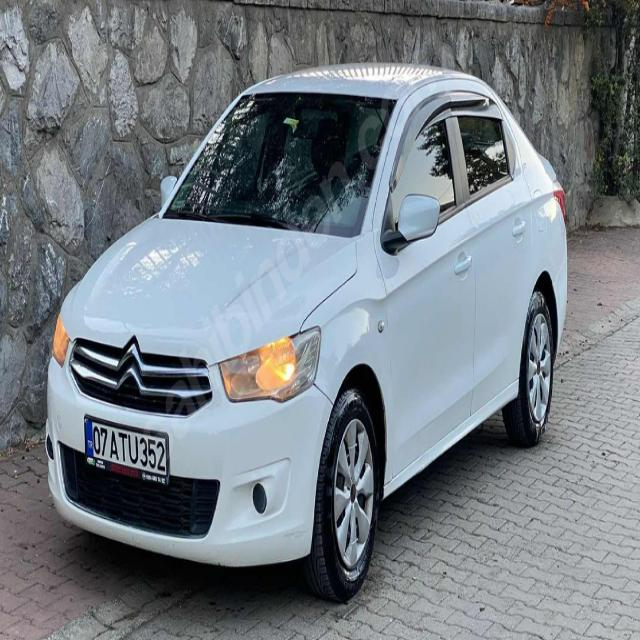citroen: (112, 332, 148, 400)
